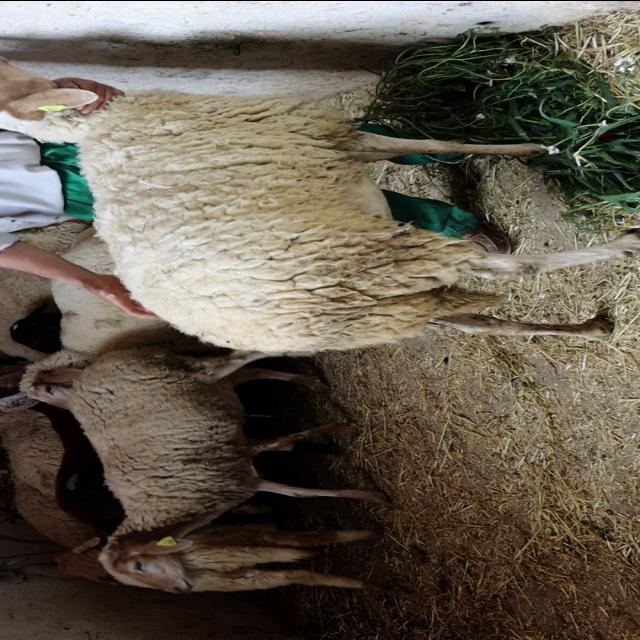Score_5: (0, 56, 639, 353)
